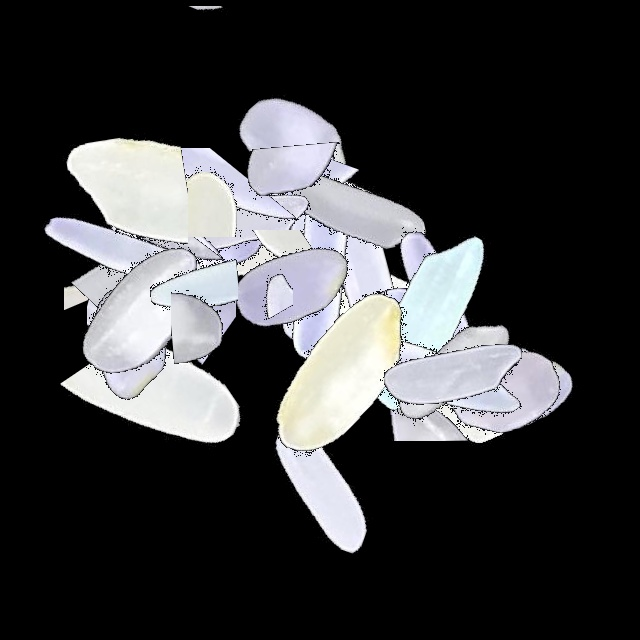Broken: (185, 169, 435, 343), (36, 332, 286, 504), (152, 145, 402, 299), (46, 74, 188, 324), (60, 148, 310, 285), (100, 168, 236, 418), (87, 190, 220, 440), (377, 252, 505, 502), (234, 83, 358, 333), (116, 159, 238, 409), (30, 183, 280, 300), (13, 209, 263, 325), (0, 197, 250, 312), (71, 124, 321, 237), (315, 330, 565, 441), (126, 183, 376, 290), (171, 197, 277, 447), (56, 210, 306, 315), (92, 154, 190, 404), (149, 230, 399, 324), (0, 212, 250, 302), (64, 122, 147, 372), (87, 6, 337, 86), (215, 157, 293, 407)
Full: (170, 20, 420, 270), (45, 110, 295, 360), (180, 145, 430, 395), (261, 207, 511, 457), (241, 156, 491, 406), (193, 132, 443, 382), (327, 223, 577, 473), (54, 100, 304, 350), (37, 107, 287, 357), (82, 104, 332, 354), (390, 266, 640, 516), (232, 85, 482, 335), (193, 366, 443, 616), (317, 248, 567, 498), (114, 95, 364, 345), (319, 196, 569, 446), (3, 215, 253, 465), (381, 266, 631, 516), (301, 192, 551, 442), (7, 133, 257, 383), (16, 187, 266, 437), (307, 254, 557, 504), (215, 249, 465, 499), (164, 159, 414, 409), (328, 243, 578, 493), (327, 251, 577, 501)
